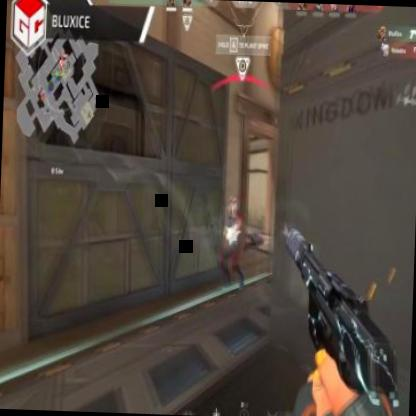enemy: (220, 200, 247, 292)
enemy_head: (228, 199, 239, 222)
